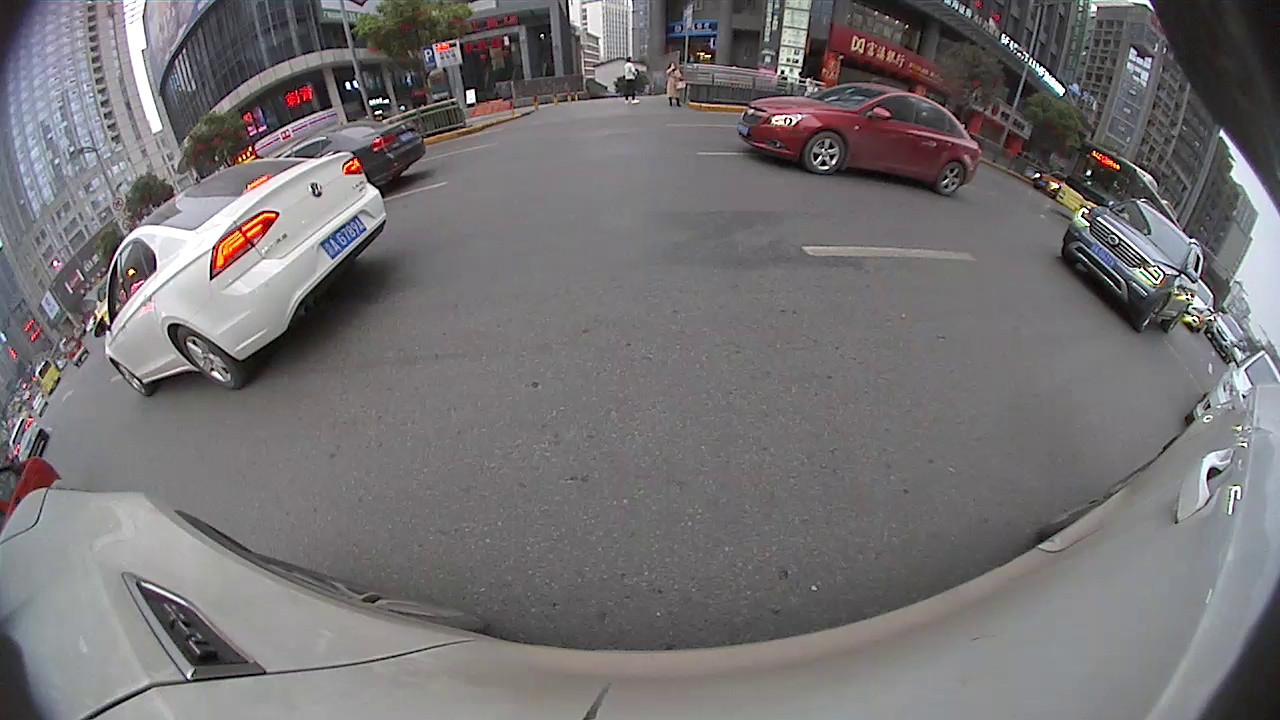bus: (1052, 141, 1178, 223)
car: (101, 149, 388, 399), (734, 83, 986, 198), (1057, 196, 1206, 335), (261, 118, 429, 182), (1177, 347, 1279, 426)
front: (803, 128, 850, 177), (112, 361, 152, 398)
rear: (176, 324, 247, 391), (932, 161, 966, 199)
